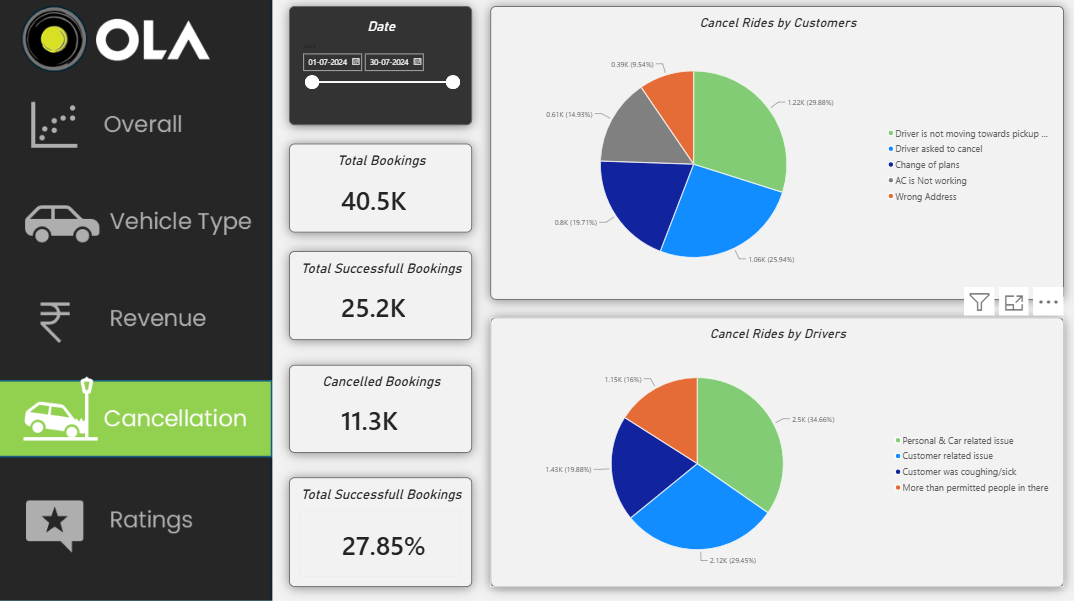

The page's visual inventory and layout, read from the dashboard file:
{"tool":"powerbi","page":{"name":"Cancellatin","canvas":[1920,1080],"ordinal":3},"visuals":[{"type":"actionButton","box":[0,878,486,132],"z":0},{"type":"actionButton","box":[0,164,486,132],"z":1000},{"type":"actionButton","box":[0,332,486,132],"z":2000},{"type":"actionButton","box":[0,506,486,132],"z":3000},{"type":"actionButton","box":[2,878,486,132],"z":4000},{"type":"pieChart","title":"Cancel Rides by Customers","fields":{"Category":["Bookings40000.Canceled_Rides_by_Customer"],"Y":["CountNonNull(Bookings40000.Booking_Status)"]},"box":[874,18,1020,522],"z":5000},{"type":"pieChart","title":"Cancel Rides by Drivers","fields":{"Category":["Bookings40000.Canceled_Rides_by_Driver"],"Y":["CountNonNull(Bookings40000.Booking_Status)"]},"box":[874,572,1020,480],"z":6000}]}

Visuals, with their boxes on the page's 1920x1080 design canvas (x1, y1, x2, y2). These are canvas units, not pixel positions in the 1074x601 screenshot, which may show the page scaled, cropped or inside an application window:
actionButton: x1=0, y1=878, x2=486, y2=1010
actionButton: x1=0, y1=164, x2=486, y2=296
actionButton: x1=0, y1=332, x2=486, y2=464
actionButton: x1=0, y1=506, x2=486, y2=638
actionButton: x1=2, y1=878, x2=488, y2=1010
"Cancel Rides by Customers" pieChart: x1=874, y1=18, x2=1894, y2=540
"Cancel Rides by Drivers" pieChart: x1=874, y1=572, x2=1894, y2=1052
